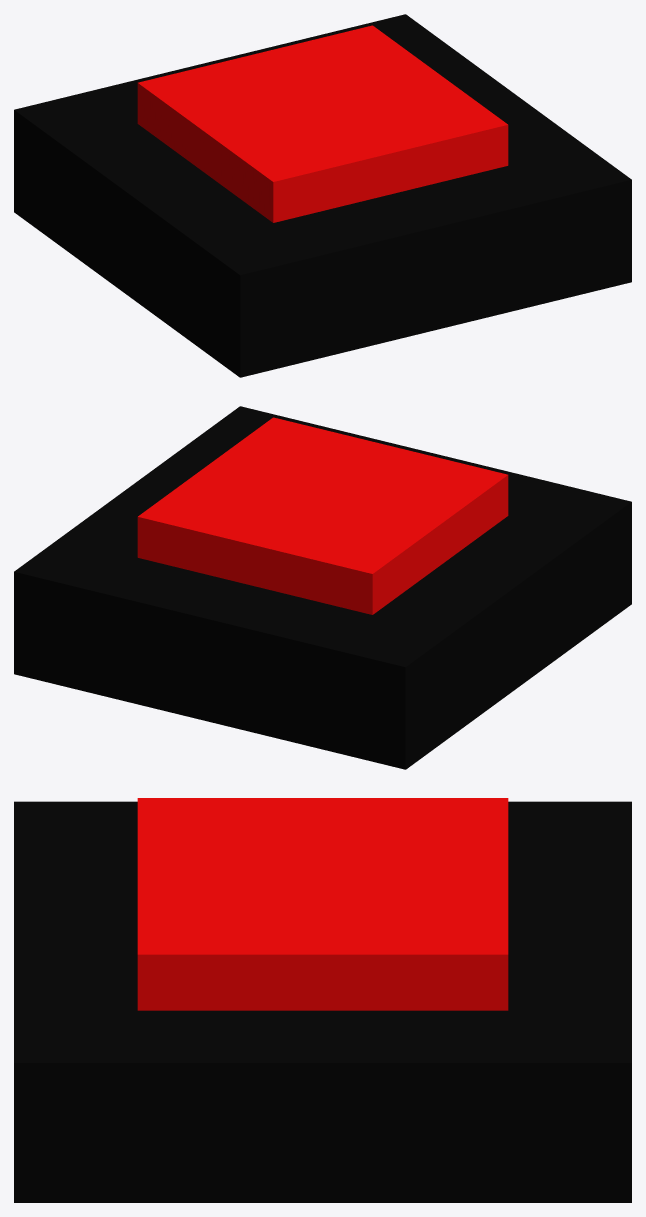
Rendered from switch.fbx.
3 renders of one model, top to bottom at view 1: azimuth 30°, elevation 25°; view 2: azimuth 150°, elevation 25°; view 3: azimuth 270°, elevation 25°, orthographic. The views are drawn at different scales.
Parts seen in each view (by area): view 1: Cube, 立方体; view 2: Cube, 立方体; view 3: Cube, 立方体.
Part boxes in pixels (x1,y1,x2,y2): Cube: (14, 14, 631, 377); 立方体: (137, 25, 508, 222); Cube: (14, 406, 631, 769); 立方体: (137, 417, 508, 614); Cube: (14, 801, 631, 1202); 立方体: (137, 798, 508, 1010).
Size of the model in its own units: 200 by 70 by 200.
1 material, 1 textured.
